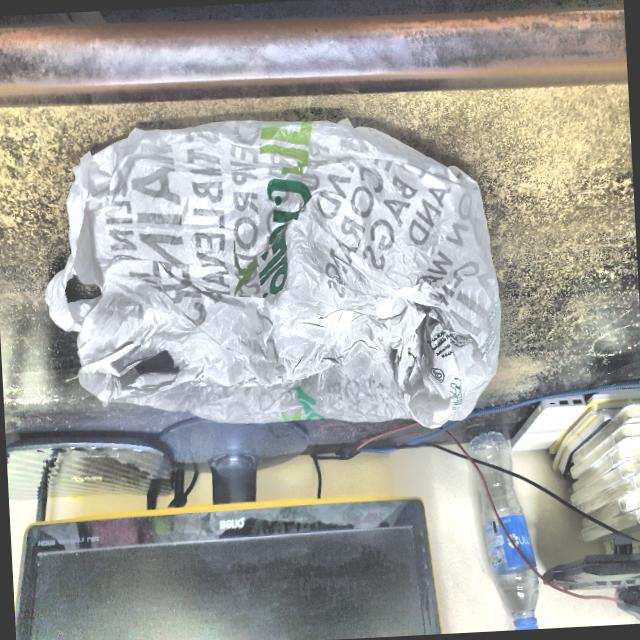plastic bag: (26, 73, 521, 466)
